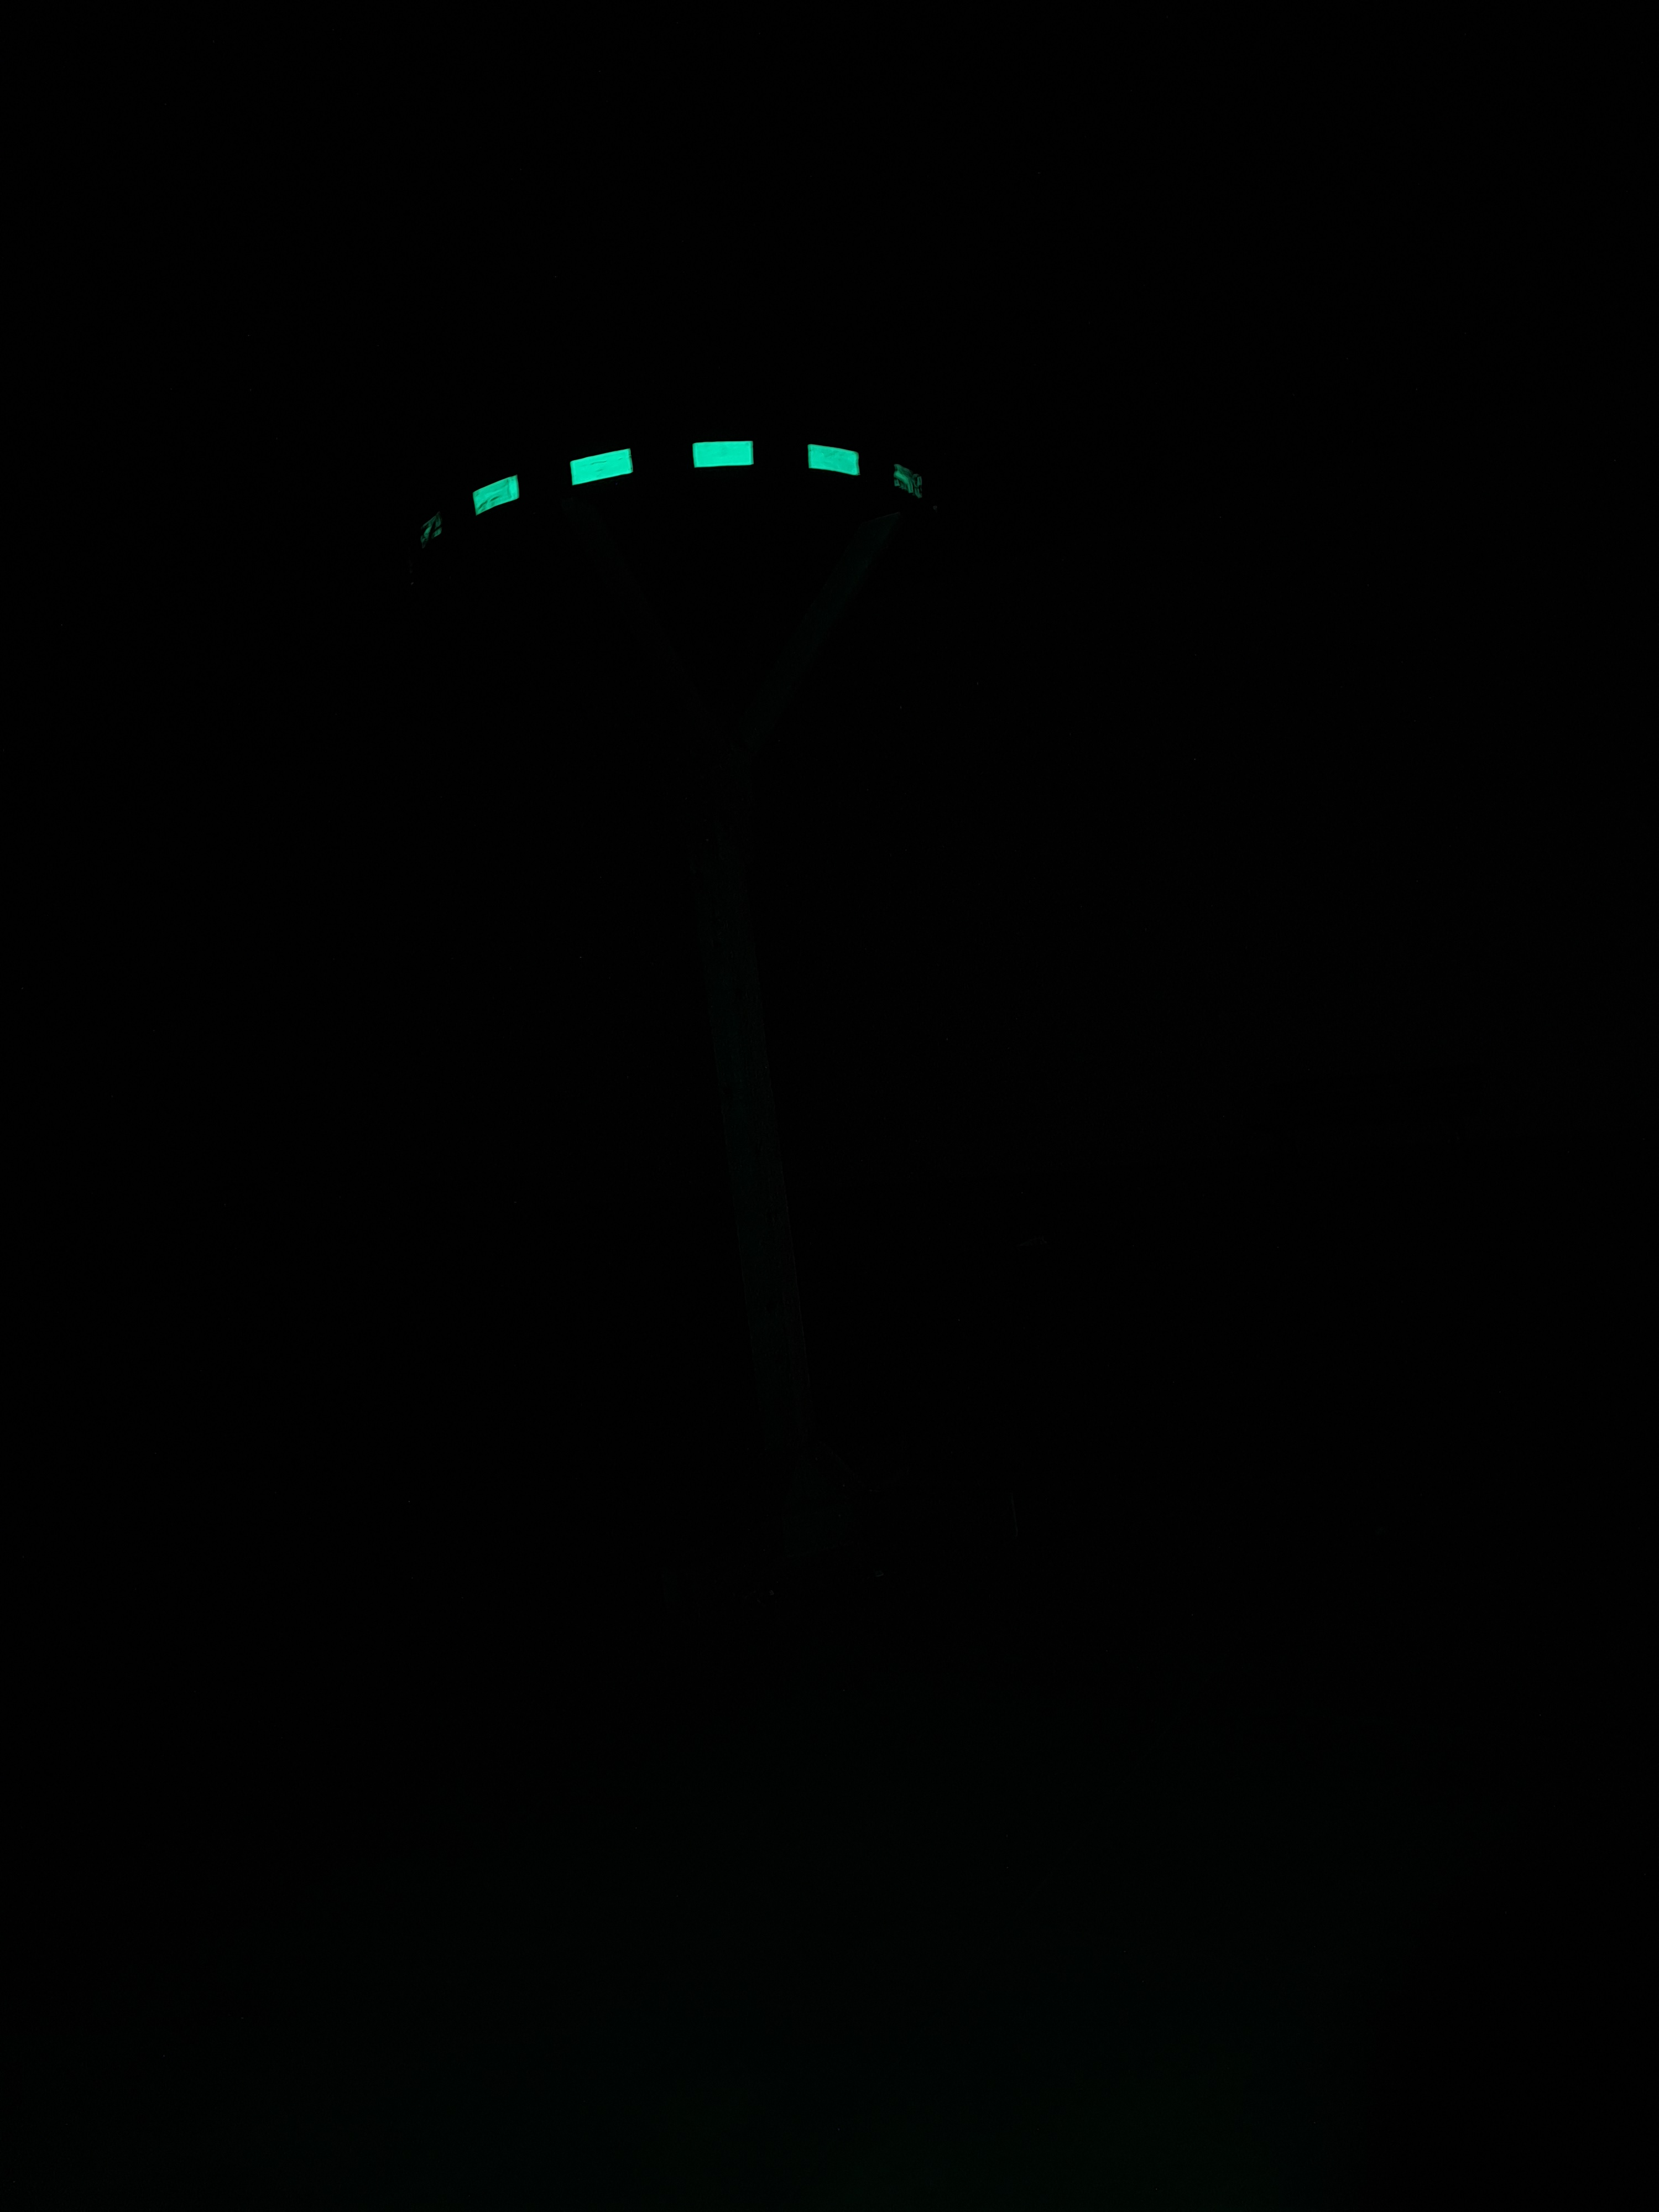hoop: (389, 421, 965, 550)
